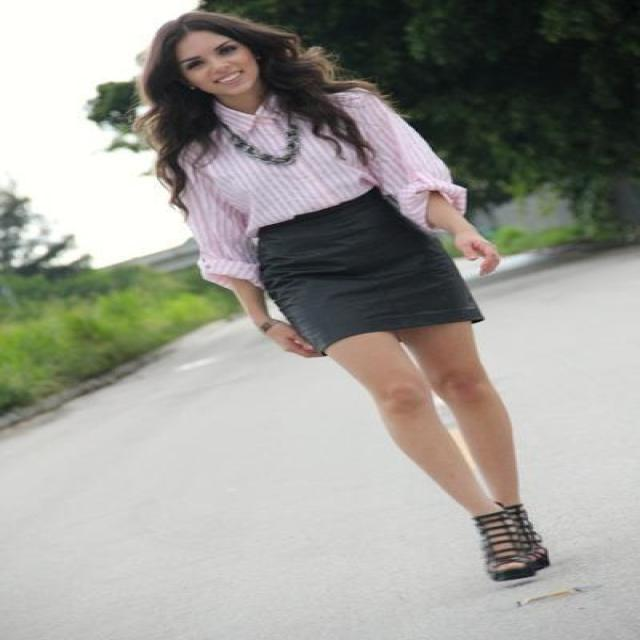shirt: (179, 80, 466, 293)
shoe: (474, 502, 548, 580)
skirt: (254, 192, 483, 356)
